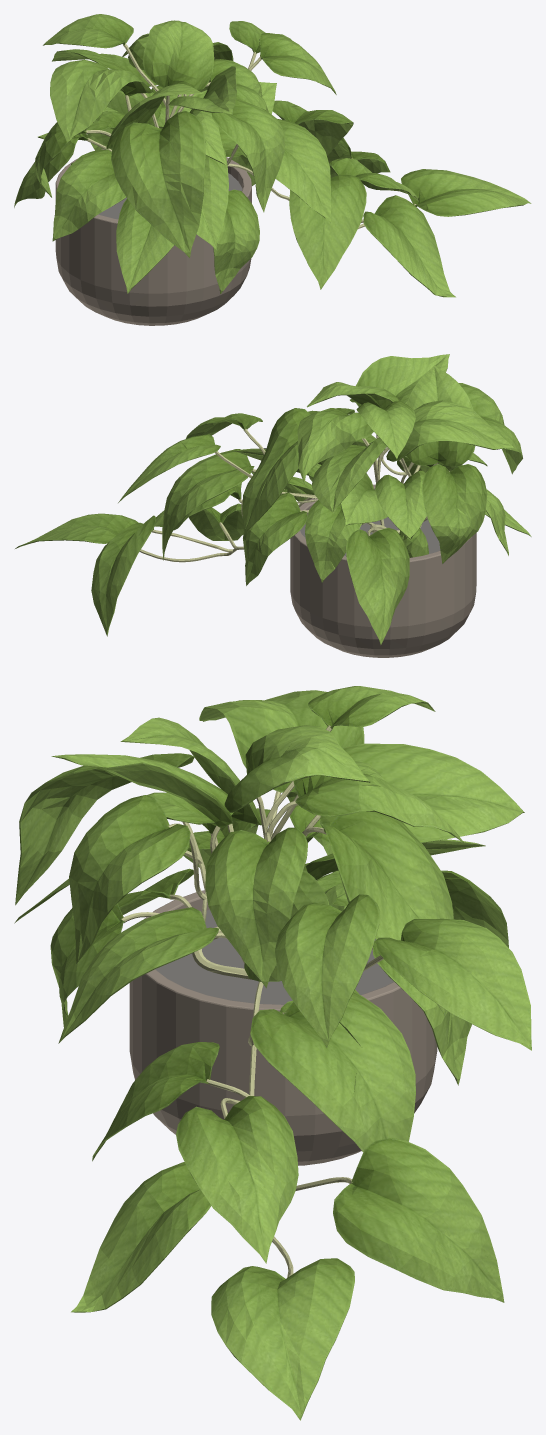
The model's file is sweethome3d-blendswap-cc-0-plant.glb.
3 renders of one model, top to bottom at view 1: azimuth 30°, elevation 25°; view 2: azimuth 150°, elevation 25°; view 3: azimuth 270°, elevation 25°, orthographic. The views are drawn at different scales.
Parts seen in each view (by area): view 1: Augalas1_Untitled, Cylinder, Augalas35_Untitled.026, Grid; view 2: Augalas1_Untitled, Cylinder, Augalas35_Untitled.026, Grid; view 3: Augalas1_Untitled, Cylinder, Augalas35_Untitled.026, Grid.
Part boxes in pixels (<box>): Augalas1_Untitled: <box>14,14,531,297</box>; Cylinder: <box>55,149,251,325</box>; Augalas35_Untitled.026: <box>86,43,416,228</box>; Grid: <box>98,173,242,219</box>; Augalas1_Untitled: <box>15,354,531,644</box>; Cylinder: <box>290,484,476,657</box>; Augalas35_Untitled.026: <box>139,428,449,562</box>; Grid: <box>300,517,440,555</box>; Augalas1_Untitled: <box>14,686,531,1420</box>; Cylinder: <box>129,890,437,1165</box>; Augalas35_Untitled.026: <box>121,725,383,1277</box>; Grid: <box>155,910,393,1004</box>.
Size of the model in its own units: 60.87 by 31.54 by 34.9.
4 materials, 1 textured.
